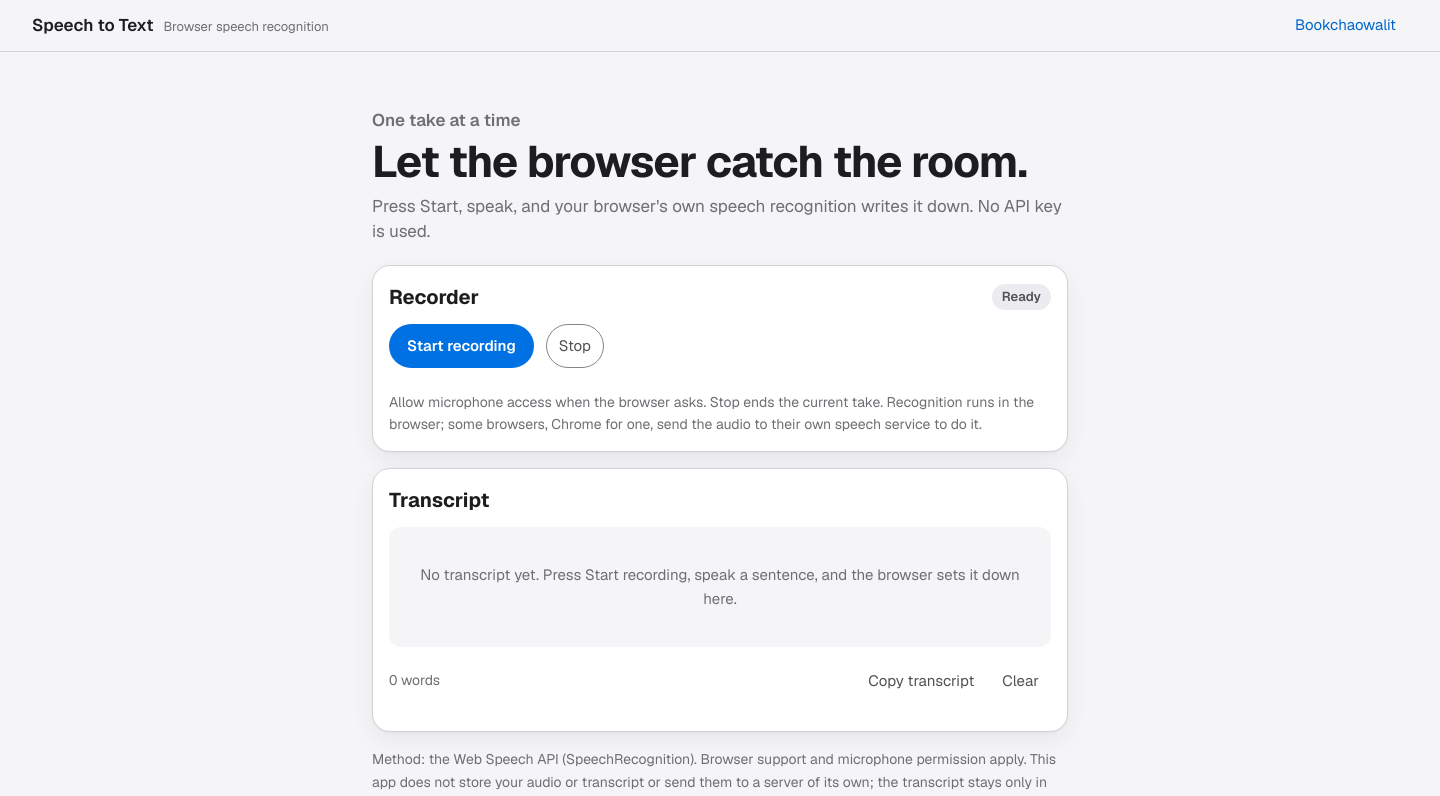
Test: recorder › reports a recognition error and ends a take the browser closes itself
What coordinates should you click on to do the following:
click the button "Start recording"
I would click on:
 (461, 346)
Its box is [389,324,534,368].
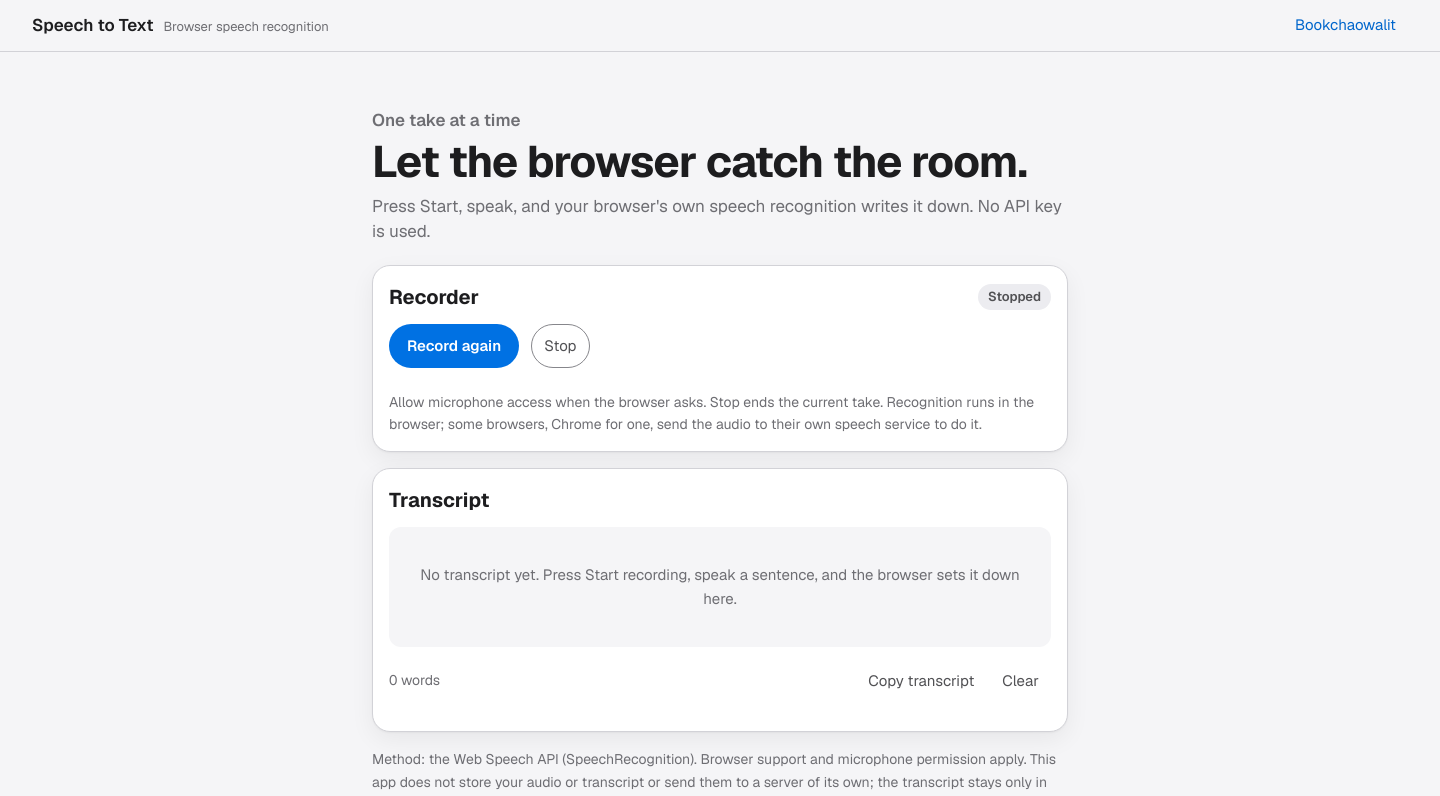
Now the text "Stopped" is shown, box [978,284,1051,310]
What coordinates should you click on to do the following:
click the button "Record again"
I would click on:
 (454, 346)
Its box is [389,324,519,368].
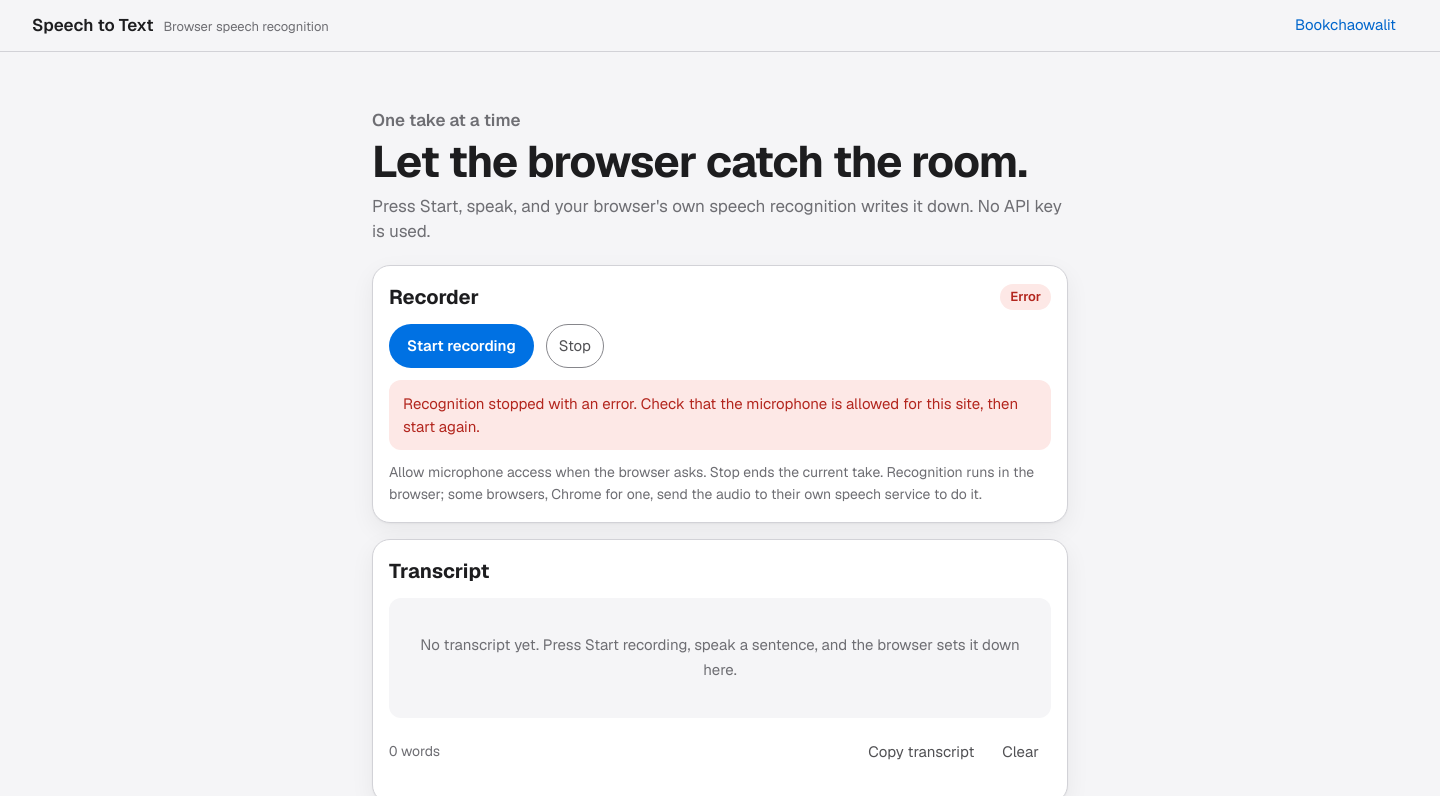
Now the text "Recognition stopped with an error" is shown, box [403,394,1018,436]
